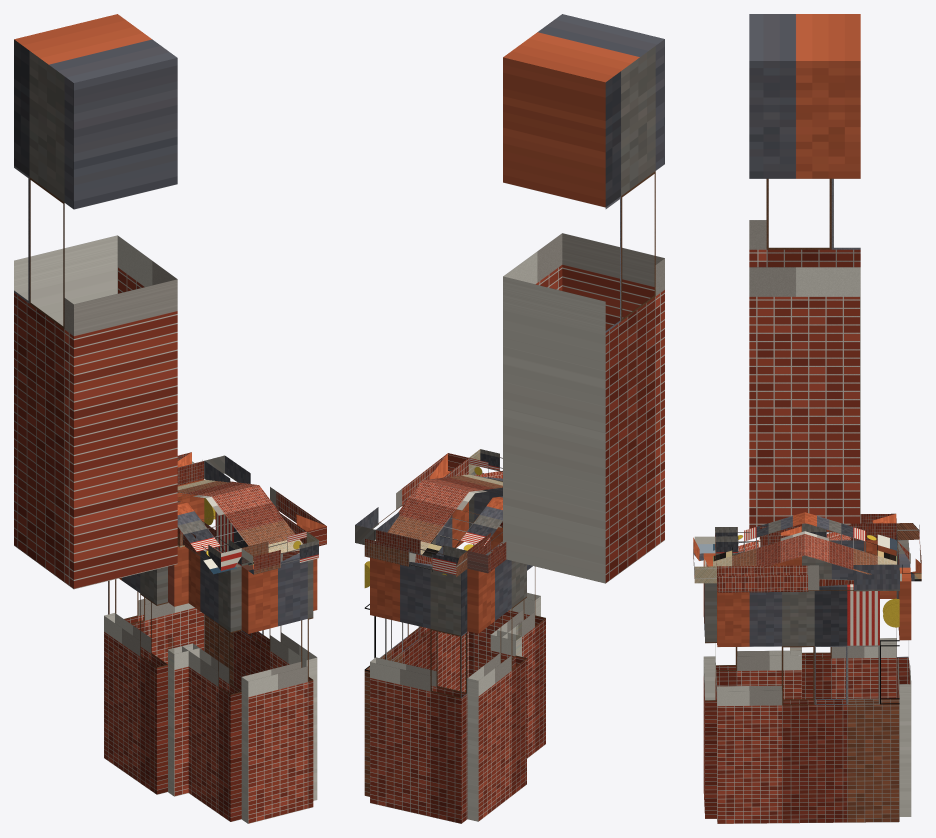
3 views of the same model, side by side, from view 1: azimuth 30°, elevation 25°; view 2: azimuth 150°, elevation 25°; view 3: azimuth 270°, elevation 25° (orthographic). The views are drawn at different scales.
Parts seen in each view (by area): view 1: 1106973760__chimney_0_xb, 1106973760__wall_3_xb, 1106973760__wall_4_xb, 1106973760__wall_0_xb, 1106973760__wall_2_xb, 1106973760_roof_-1_xb, 1106973760__wall_5_xb, 1106973760__wall_1_xb, 1106973760__cornice_2, 1106973760__cornice_3, 1106973760__cornice_4, 1106973760_roof_1_xb (+1 smaller); view 2: 1106973760__chimney_0_xb, 1106973760__wall_1_xb, 1106973760__wall_0_xb, 1106973760__wall_2_xb, 1106973760_roof_1_xb, 1106973760__wall_4_xb, 1106973760__cornice_1, 1106973760__wall_3_xb, 1106973760__cornice_2, 1106973760__cornice_0, 1106973760__wall_5_xb, 1106973760_roof_-1_xb (+1 smaller); view 3: 1106973760__chimney_0_xb, 1106973760__wall_2_xb, 1106973760__wall_0_xb, 1106973760__cornice_2, 1106973760__wall_1_xb, 1106973760__wall_4_xb, 1106973760__wall_3_xb, 1106973760_roof_1_xb, 1106973760_roof_-1_xb, 1106973760__cornice_0, 1106973760__cornice_4, 1106973760__cornice_3 (+1 smaller).
Part boxes in pixels (<box>): 1106973760__chimney_0_xb: <box>14,14,177,589</box>; 1106973760__wall_3_xb: <box>241,553,313,823</box>; 1106973760__wall_4_xb: <box>182,547,241,821</box>; 1106973760__wall_0_xb: <box>104,566,167,794</box>; 1106973760__wall_2_xb: <box>204,498,317,800</box>; 1106973760_roof_-1_xb: <box>177,485,302,573</box>; 1106973760__wall_5_xb: <box>168,545,199,796</box>; 1106973760__wall_1_xb: <box>108,479,204,664</box>; 1106973760__cornice_2: <box>204,455,326,546</box>; 1106973760__cornice_3: <box>241,531,318,574</box>; 1106973760__cornice_4: <box>177,521,241,570</box>; 1106973760_roof_1_xb: <box>177,480,258,504</box>; 1106973760__chimney_0_xb: <box>503,14,664,583</box>; 1106973760__wall_1_xb: <box>370,558,467,823</box>; 1106973760__wall_0_xb: <box>467,541,526,821</box>; 1106973760__wall_2_xb: <box>364,502,468,796</box>; 1106973760_roof_1_xb: <box>387,480,502,558</box>; 1106973760__wall_4_xb: <box>496,564,545,758</box>; 1106973760__cornice_1: <box>364,530,467,576</box>; 1106973760__wall_3_xb: <box>469,471,540,676</box>; 1106973760__cornice_2: <box>355,453,468,544</box>; 1106973760__cornice_0: <box>467,531,506,573</box>; 1106973760__wall_5_xb: <box>490,527,521,662</box>; 1106973760_roof_-1_xb: <box>423,474,502,499</box>; 1106973760__chimney_0_xb: <box>749,14,860,532</box>; 1106973760__wall_2_xb: <box>717,584,899,823</box>; 1106973760__wall_0_xb: <box>802,539,896,699</box>; 1106973760__cornice_2: <box>717,564,899,592</box>; 1106973760__wall_1_xb: <box>896,540,911,816</box>; 1106973760__wall_4_xb: <box>716,550,801,699</box>; 1106973760__wall_3_xb: <box>703,553,716,818</box>; 1106973760_roof_1_xb: <box>805,512,896,574</box>; 1106973760_roof_-1_xb: <box>713,512,804,575</box>; 1106973760__cornice_0: <box>802,513,896,540</box>; 1106973760__cornice_4: <box>715,526,801,553</box>; 1106973760__cornice_3: <box>693,536,716,583</box>.
Size of the model in its own units: 0.3416 by 1.05 by 0.3076.
Materials: 1 (1 with a texture image).
